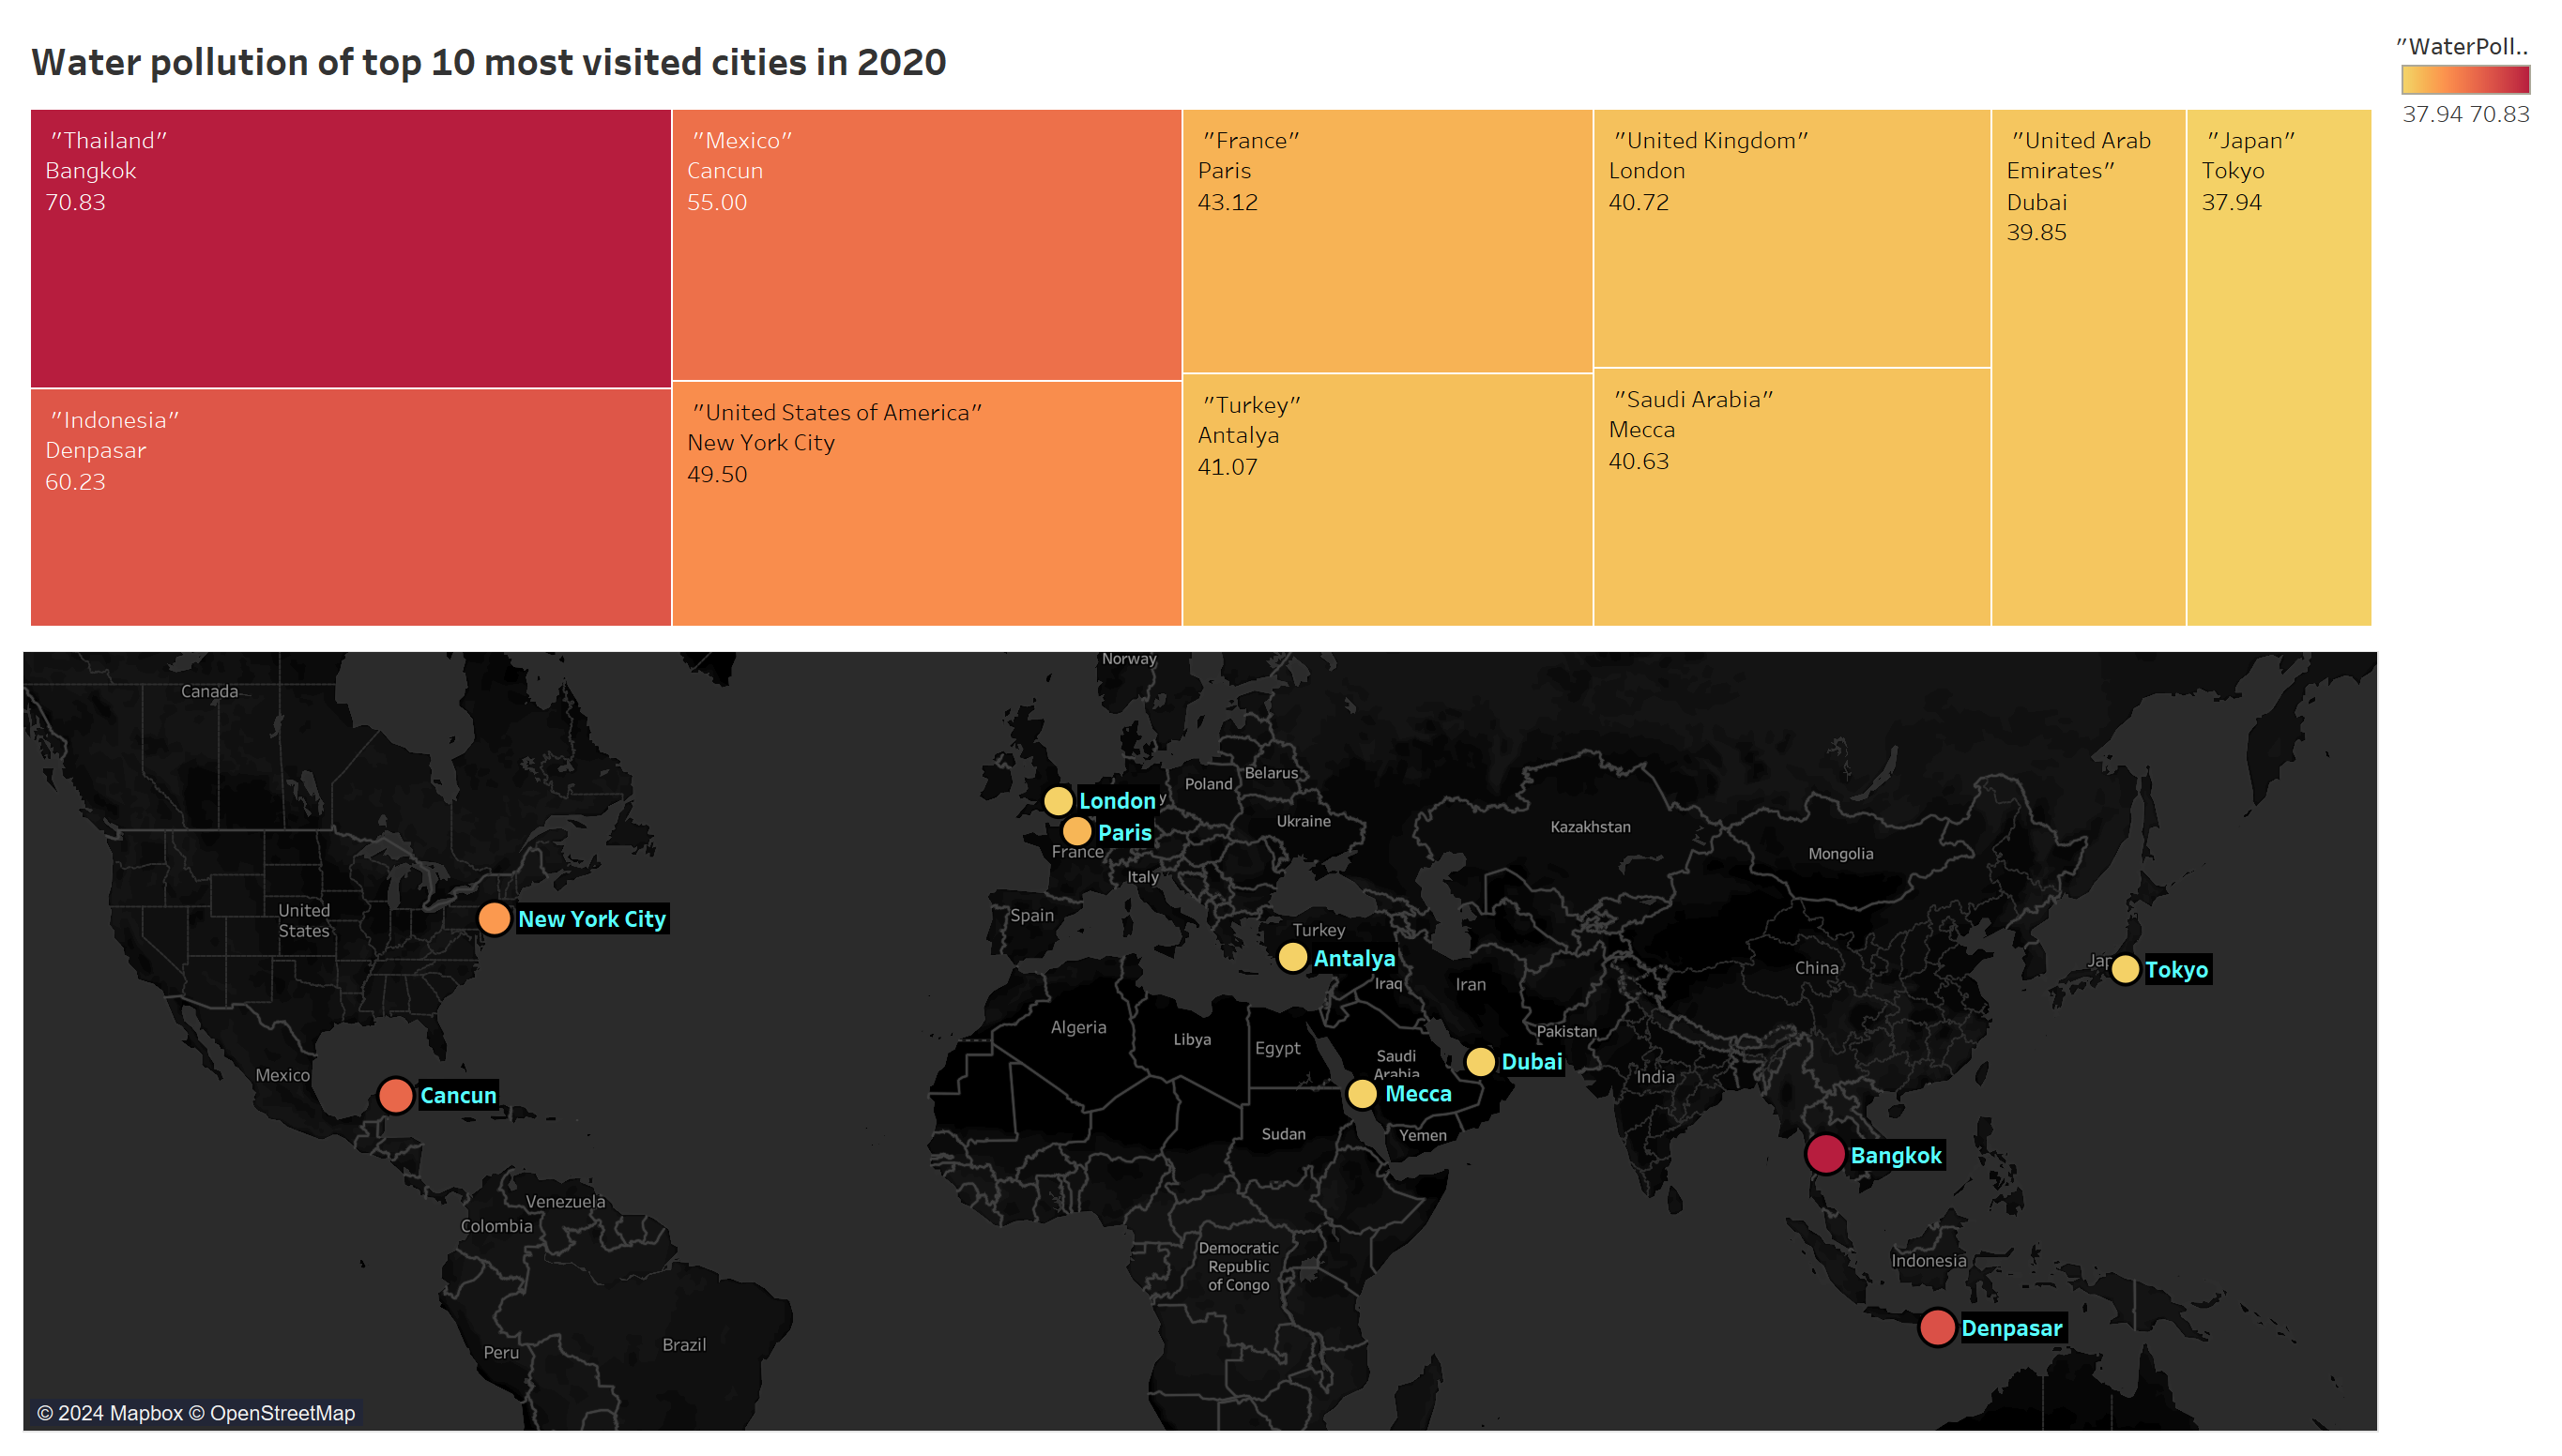

The dashboard page shown, as its layout file describes it:
{"tool":"tableau","page":{"name":"Dashboard 2","canvas":[1000,1000],"units":"permille","ordinal":1},"visuals":[{"type":"worksheet","title":"map comparision","mark":"Automatic","box":[5.9,10.3,931.9,439.4]},{"type":"filter","title":"map comparision","param":"[federated.103vblp1dguotj1g3bm8i1cobax3].[none:Year:ok]","box":[937.7,10.3,56.4,188.2]},{"type":"legend","title":"map comparision","param":"[federated.103vblp1dguotj1g3bm8i1cobax3].[sum:Tourism Arrivals (Million):qk]","box":[937.7,198.5,56.4,83.8]},{"type":"worksheet","title":"Sheet 4","mark":"Automatic","rows":["Tourism Arrivals (Million)","BOD (mg/L)","COD (mg/L)","TSS (mg/L)","Salinity (TDS mg/L)","Fecal Coliforms (MPN/100mL)","Nitrate Level (mg/L)","Phosphate Rate (mg/L)"],"cols":["Year","Province"],"box":[5.9,449.7,931.9,540]}]}

Visuals, with their boxes on the dashboard's canvas, which has no fixed pixel size, in thousandths of its width and height (x1, y1, x2, y2). These are canvas units, not pixel positions in the 2562x1456 screenshot, which may show the page scaled, cropped or inside an application window:
"map comparision" worksheet: x1=6 y1=10 x2=938 y2=450
"map comparision" filter: x1=938 y1=10 x2=994 y2=198
"map comparision" legend: x1=938 y1=198 x2=994 y2=282
"Sheet 4" worksheet: x1=6 y1=450 x2=938 y2=990
